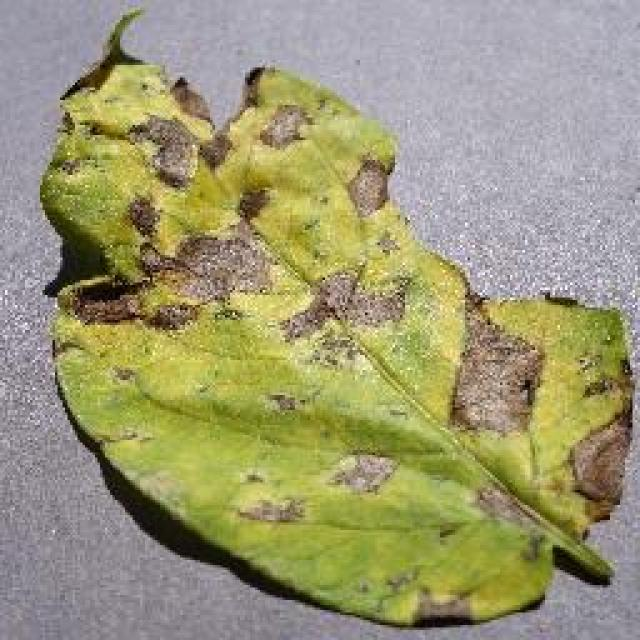early_blight: (35, 8, 637, 630)
